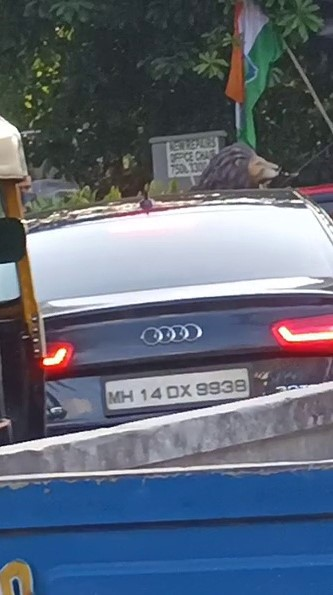MH14DX9938: (104, 368, 249, 409)
